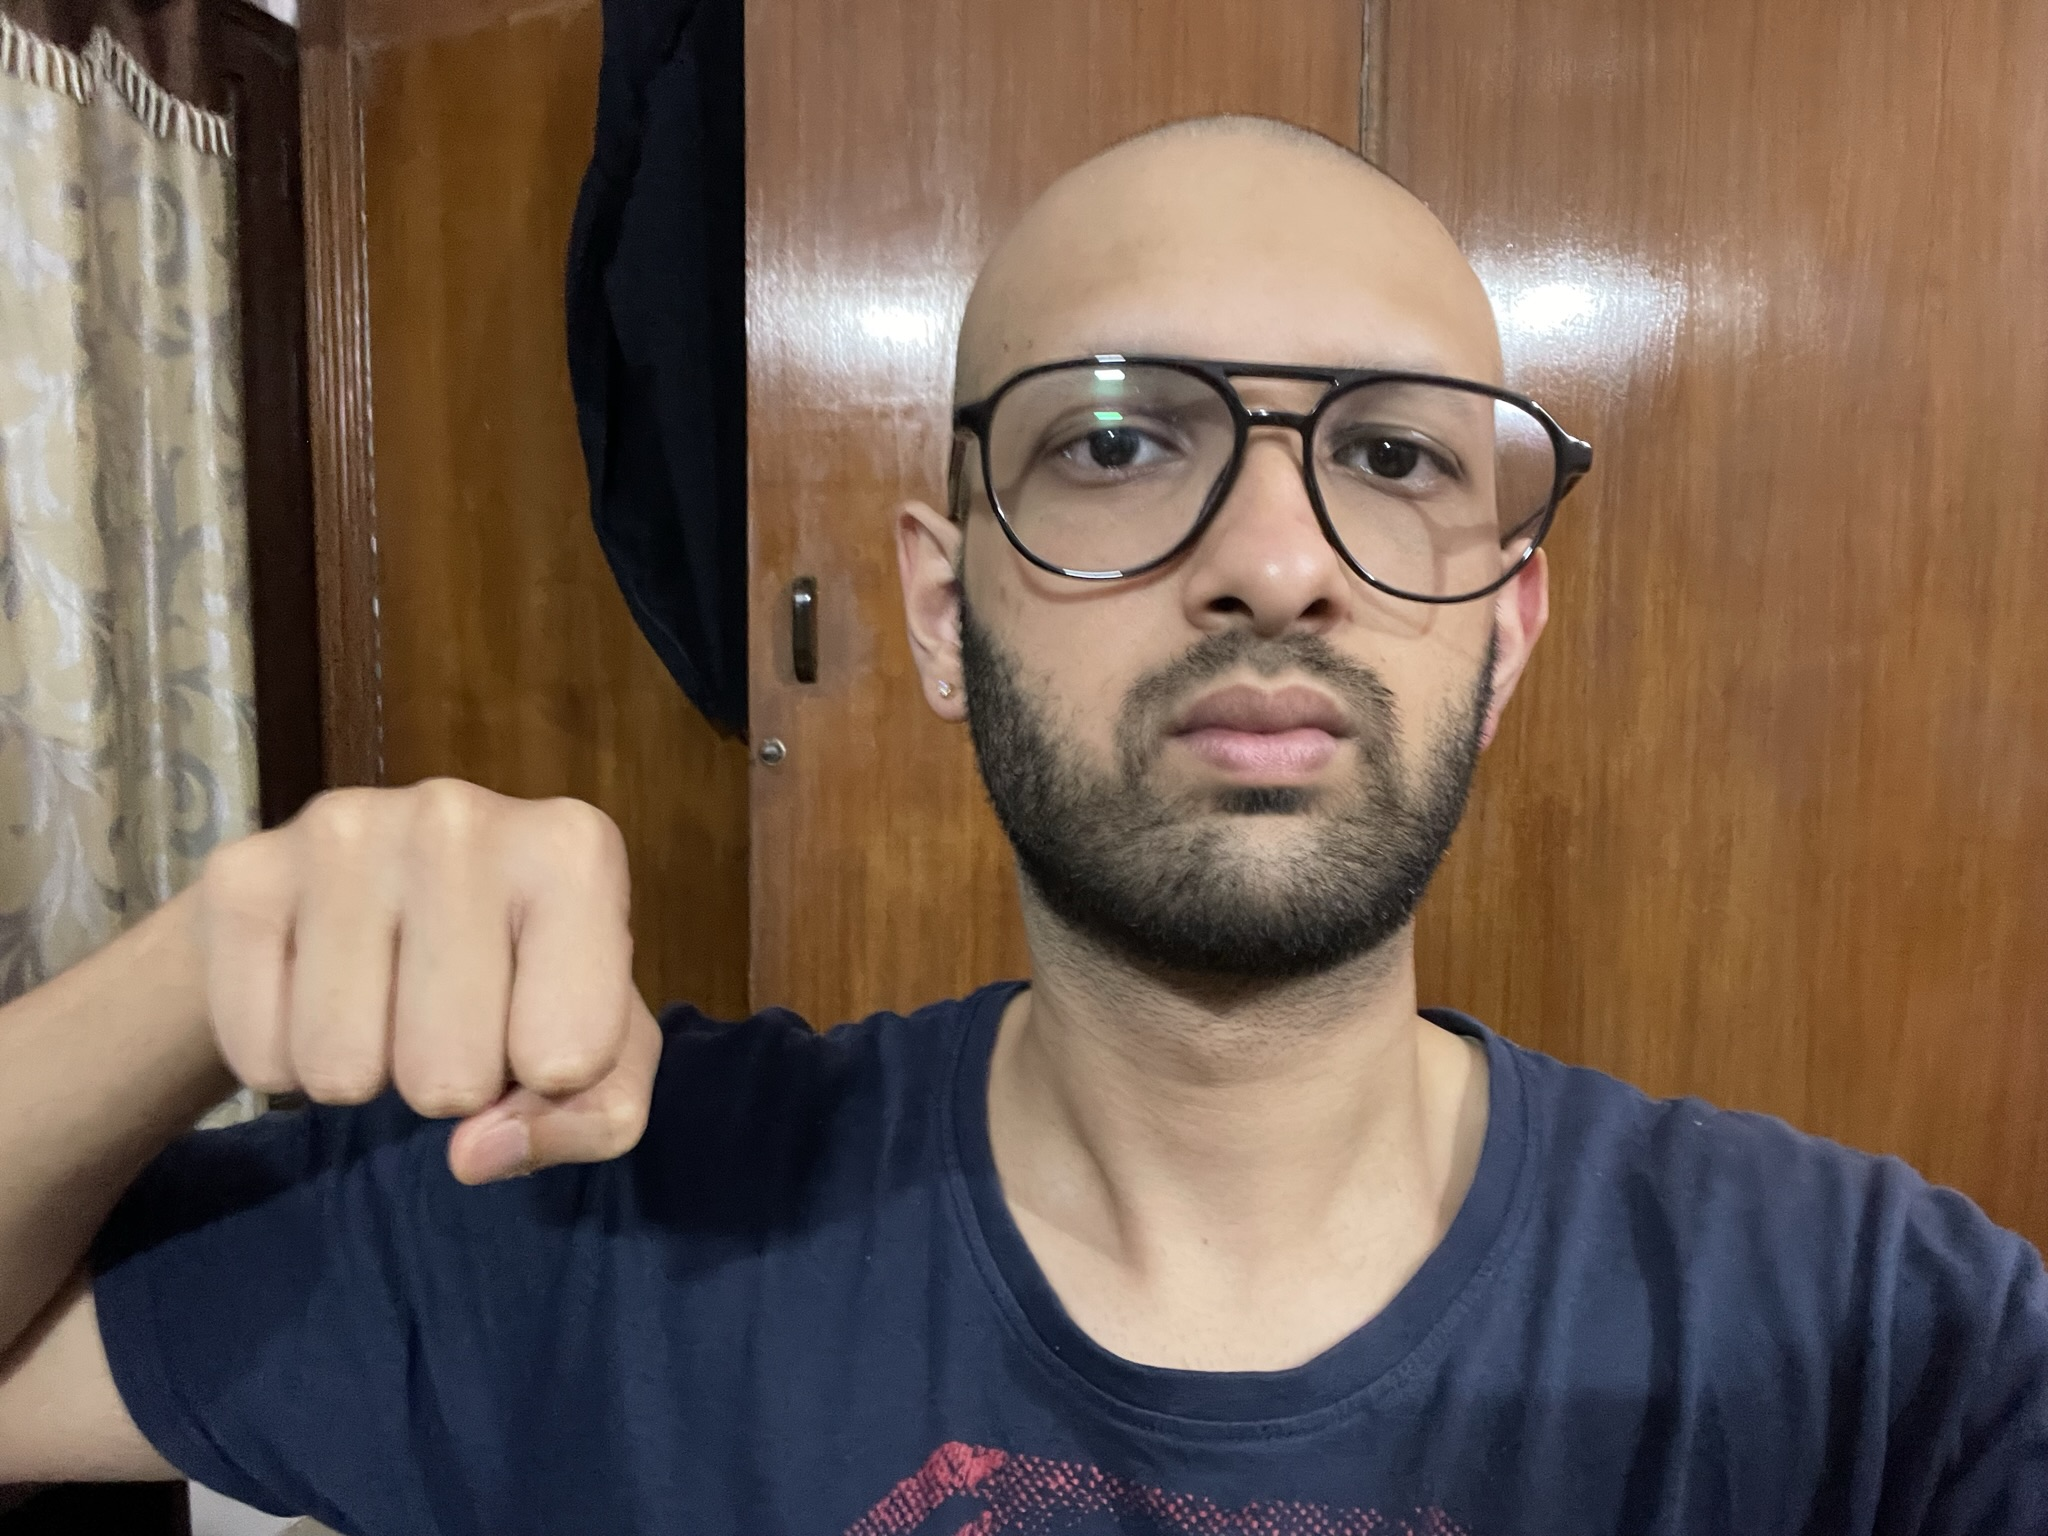Yes: (202, 768, 672, 1179)
